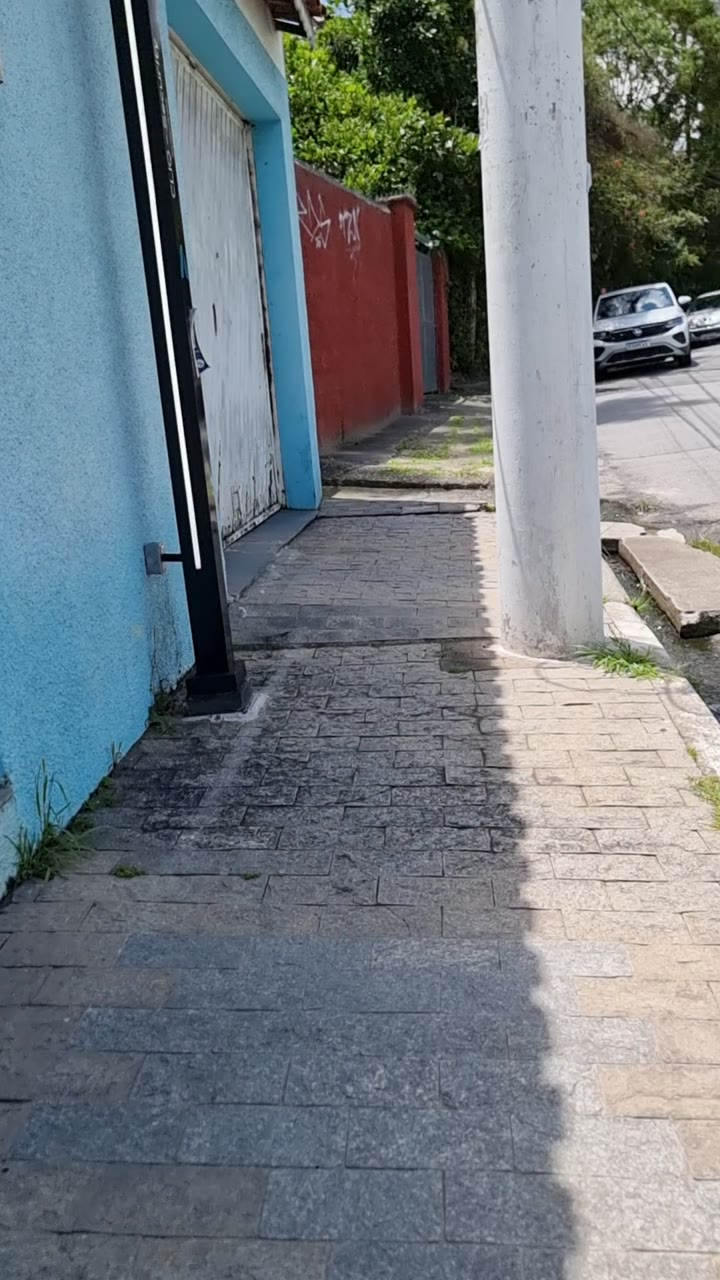obstaculo: (475, 0, 598, 666)
